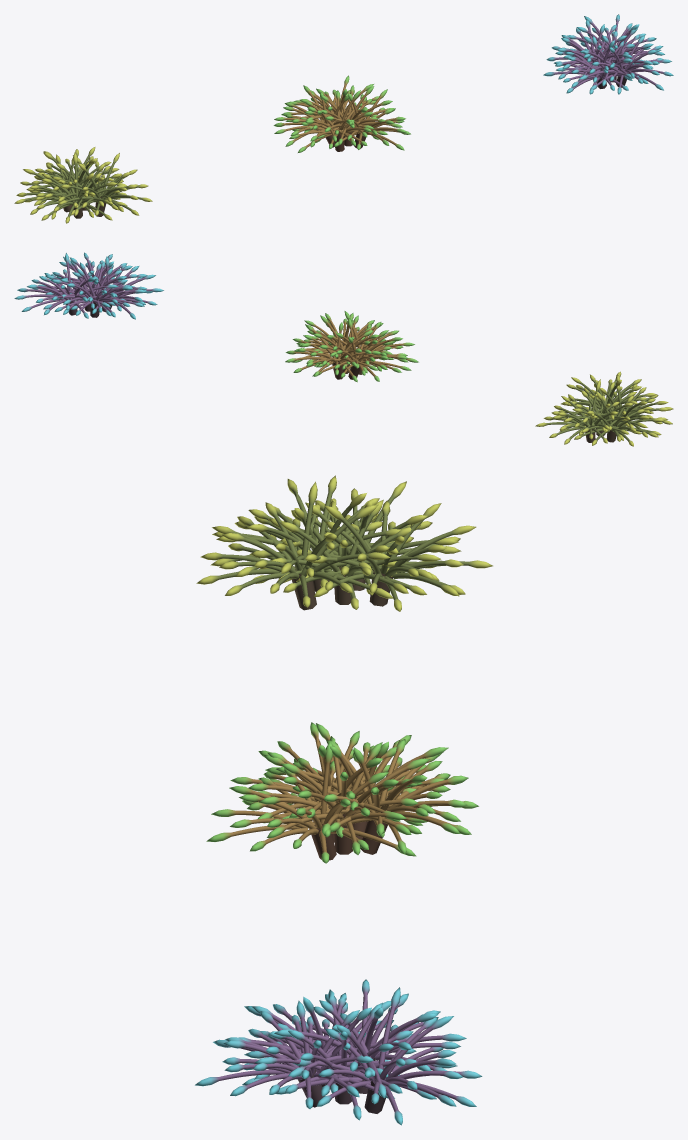
3 views of the same model, one above another, from view 1: azimuth 30°, elevation 25°; view 2: azimuth 150°, elevation 25°; view 3: azimuth 270°, elevation 25° (orthographic). The views are drawn at different scales.
Parts seen in each view (by area): view 1: torch-coral-1, torch-coral-2, torch-coral-0; view 2: torch-coral-0, torch-coral-2, torch-coral-1; view 3: torch-coral-0, torch-coral-1, torch-coral-2.
Part boxes in pixels (bbox=[...]): torch-coral-1: bbox=[273, 75, 410, 152]; torch-coral-2: bbox=[543, 14, 673, 94]; torch-coral-0: bbox=[14, 147, 152, 223]; torch-coral-0: bbox=[535, 371, 673, 446]; torch-coral-2: bbox=[14, 252, 163, 319]; torch-coral-1: bbox=[285, 311, 418, 382]; torch-coral-0: bbox=[196, 475, 492, 611]; torch-coral-1: bbox=[206, 722, 478, 863]; torch-coral-2: bbox=[195, 979, 482, 1125].
Size of the model in its own units: 1.49 by 0.1293 by 0.3042.
